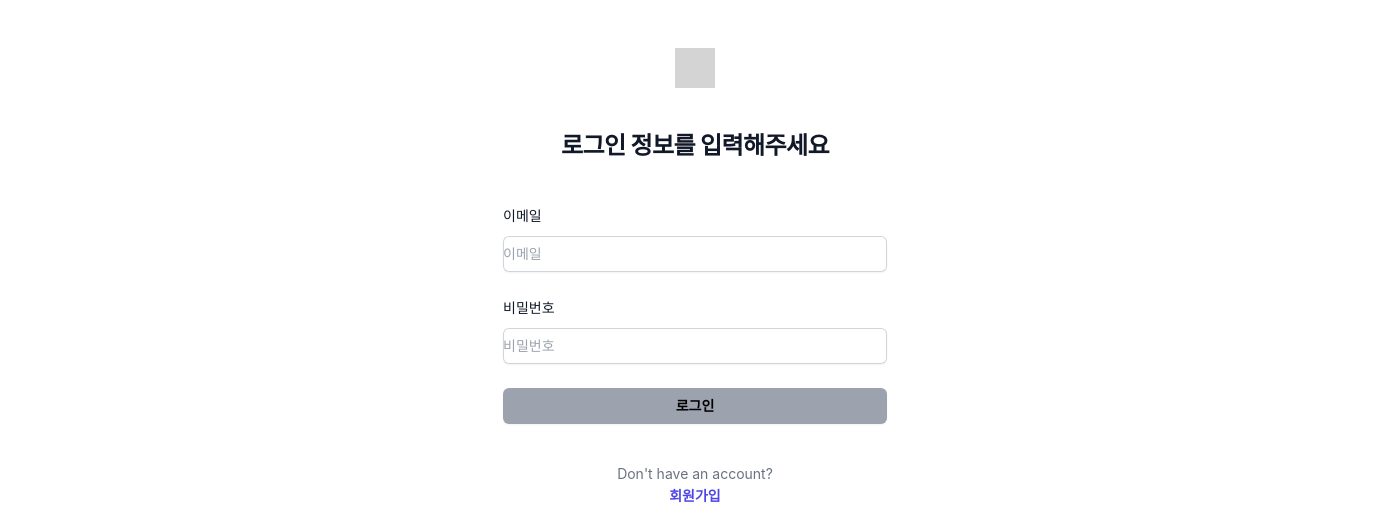
it: 로그인 테스트 › 로그인에 성공하면 토큰을 로컬스토리지에 저장한후 todo 페이지로 이동한다
This screenshot has width=1378, height=520.
In the field with test id "email-input": point(695, 254) [503,236,887,272], type "test1234@gmail.com"
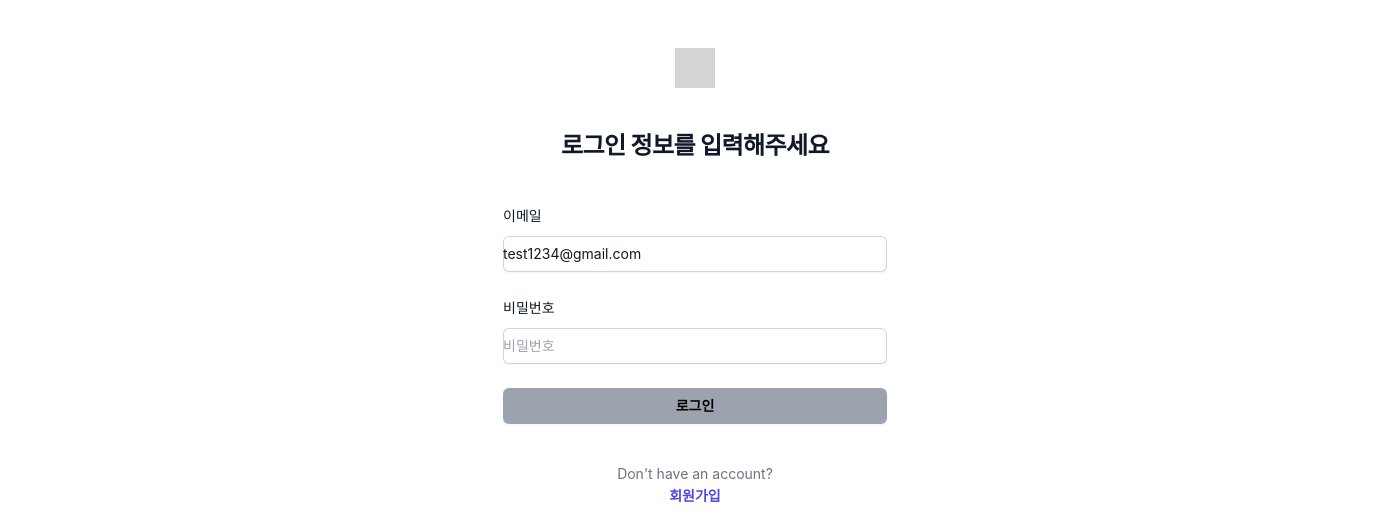
In the password field with test id "password-input": point(695, 346) [503,328,887,364], type "12345678"
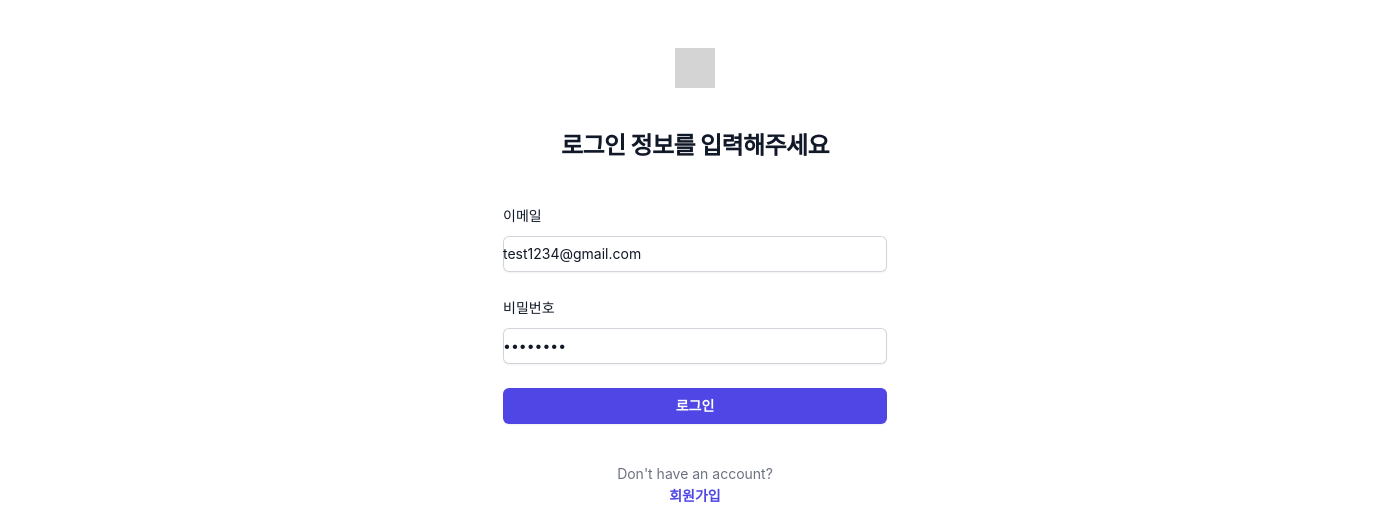
Click the button with test id "signin-button": point(695, 406) [503,388,887,424]
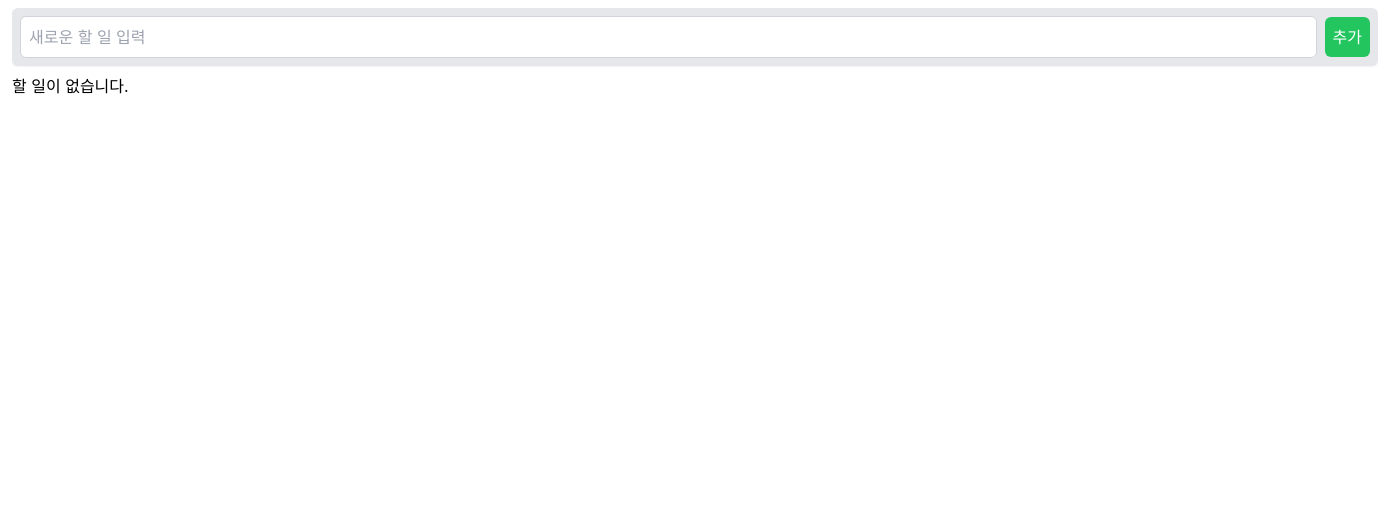
Check: the field with test id "new-todo-input" is shown, box [20,16,1316,58]
